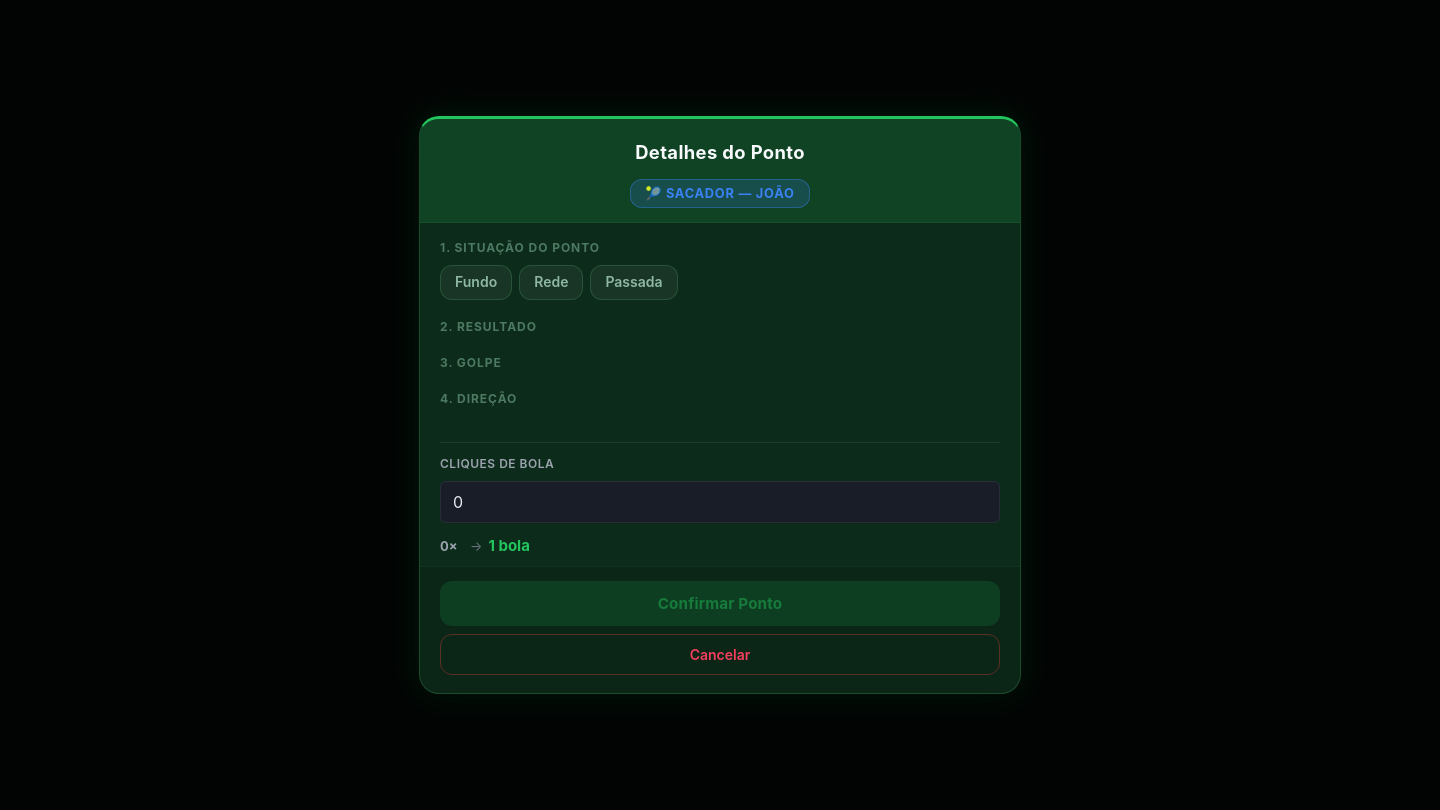
Test: PointDetailsModal › Interações com botões de ação › botão Confirmar fica habilitado após selecionar golpe
This screenshot has width=1440, height=810.
Click the button "Fundo": (476, 283) [440, 265, 512, 300]
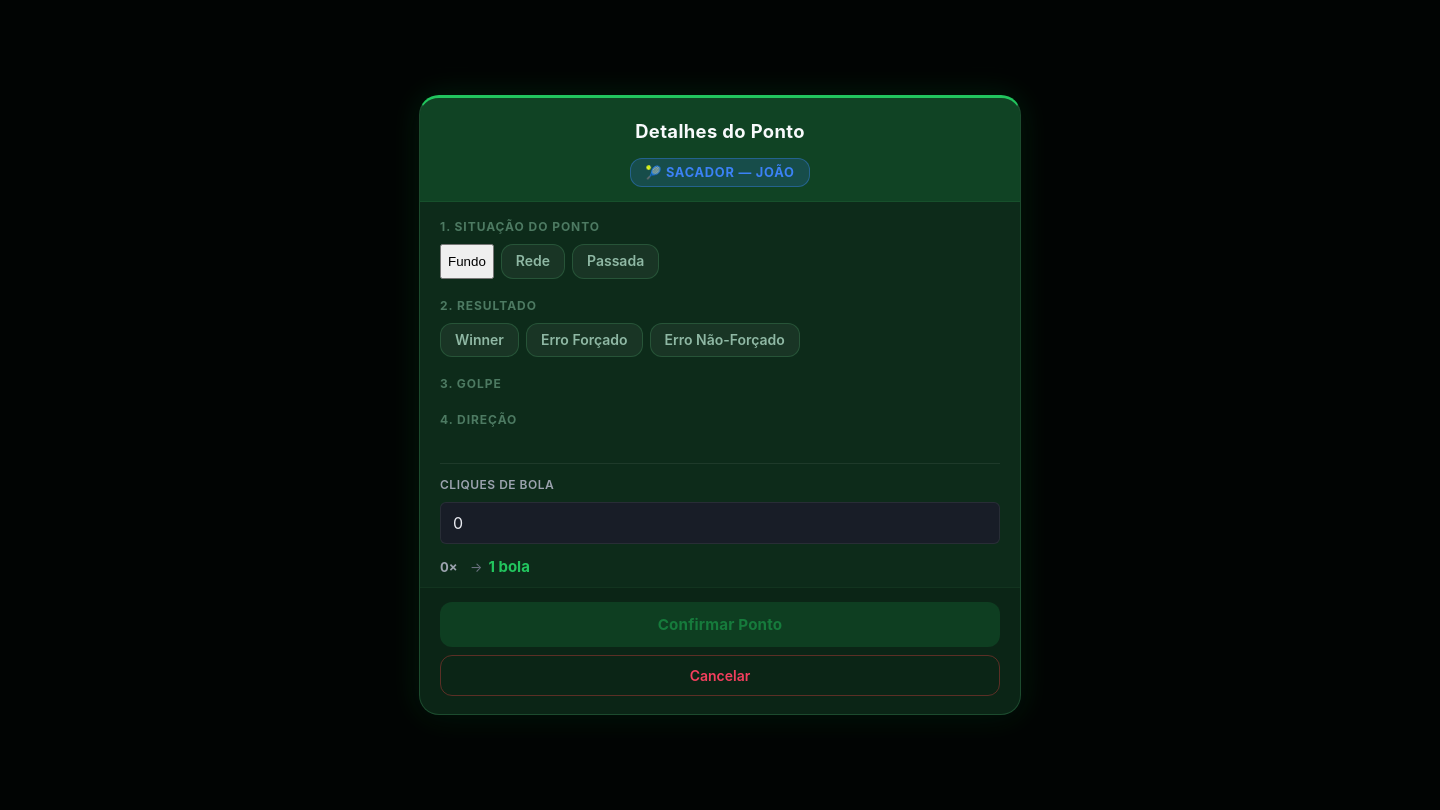
Click the button "Winner": (479, 340) [440, 323, 519, 357]
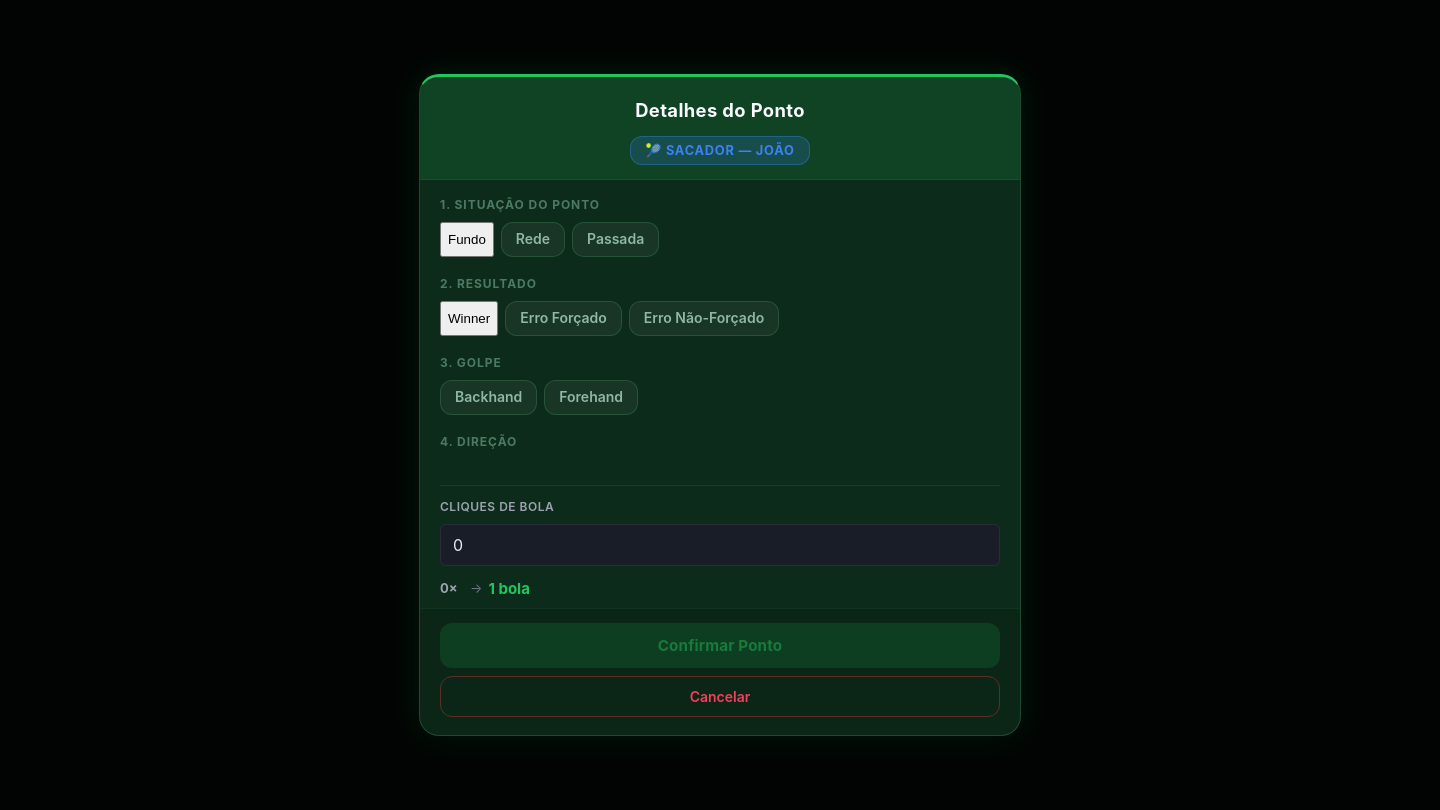
Click the button "Backhand": (489, 397) [440, 380, 537, 415]
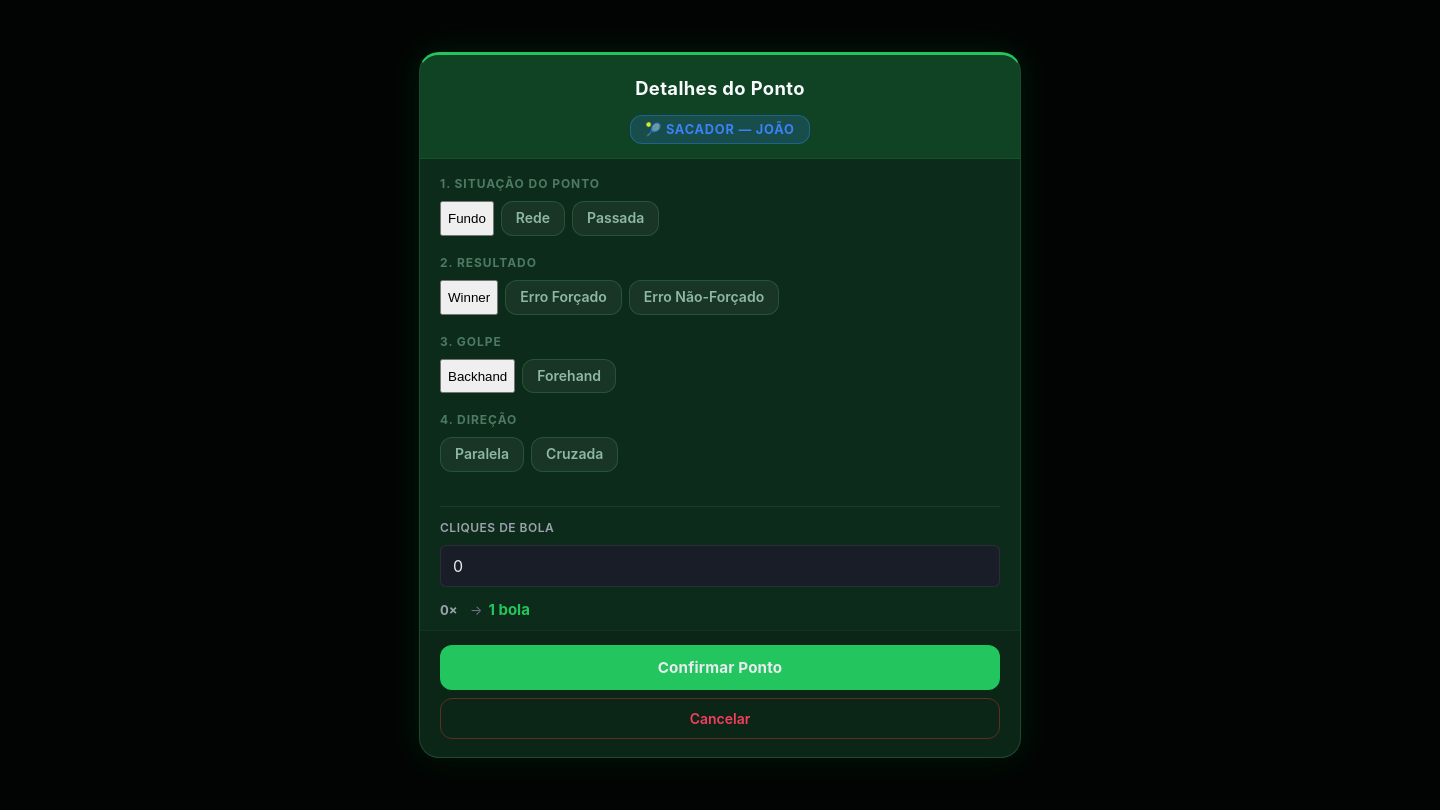
Result: the button "Confirmar Ponto" is enabled at [440, 645, 1000, 690]
